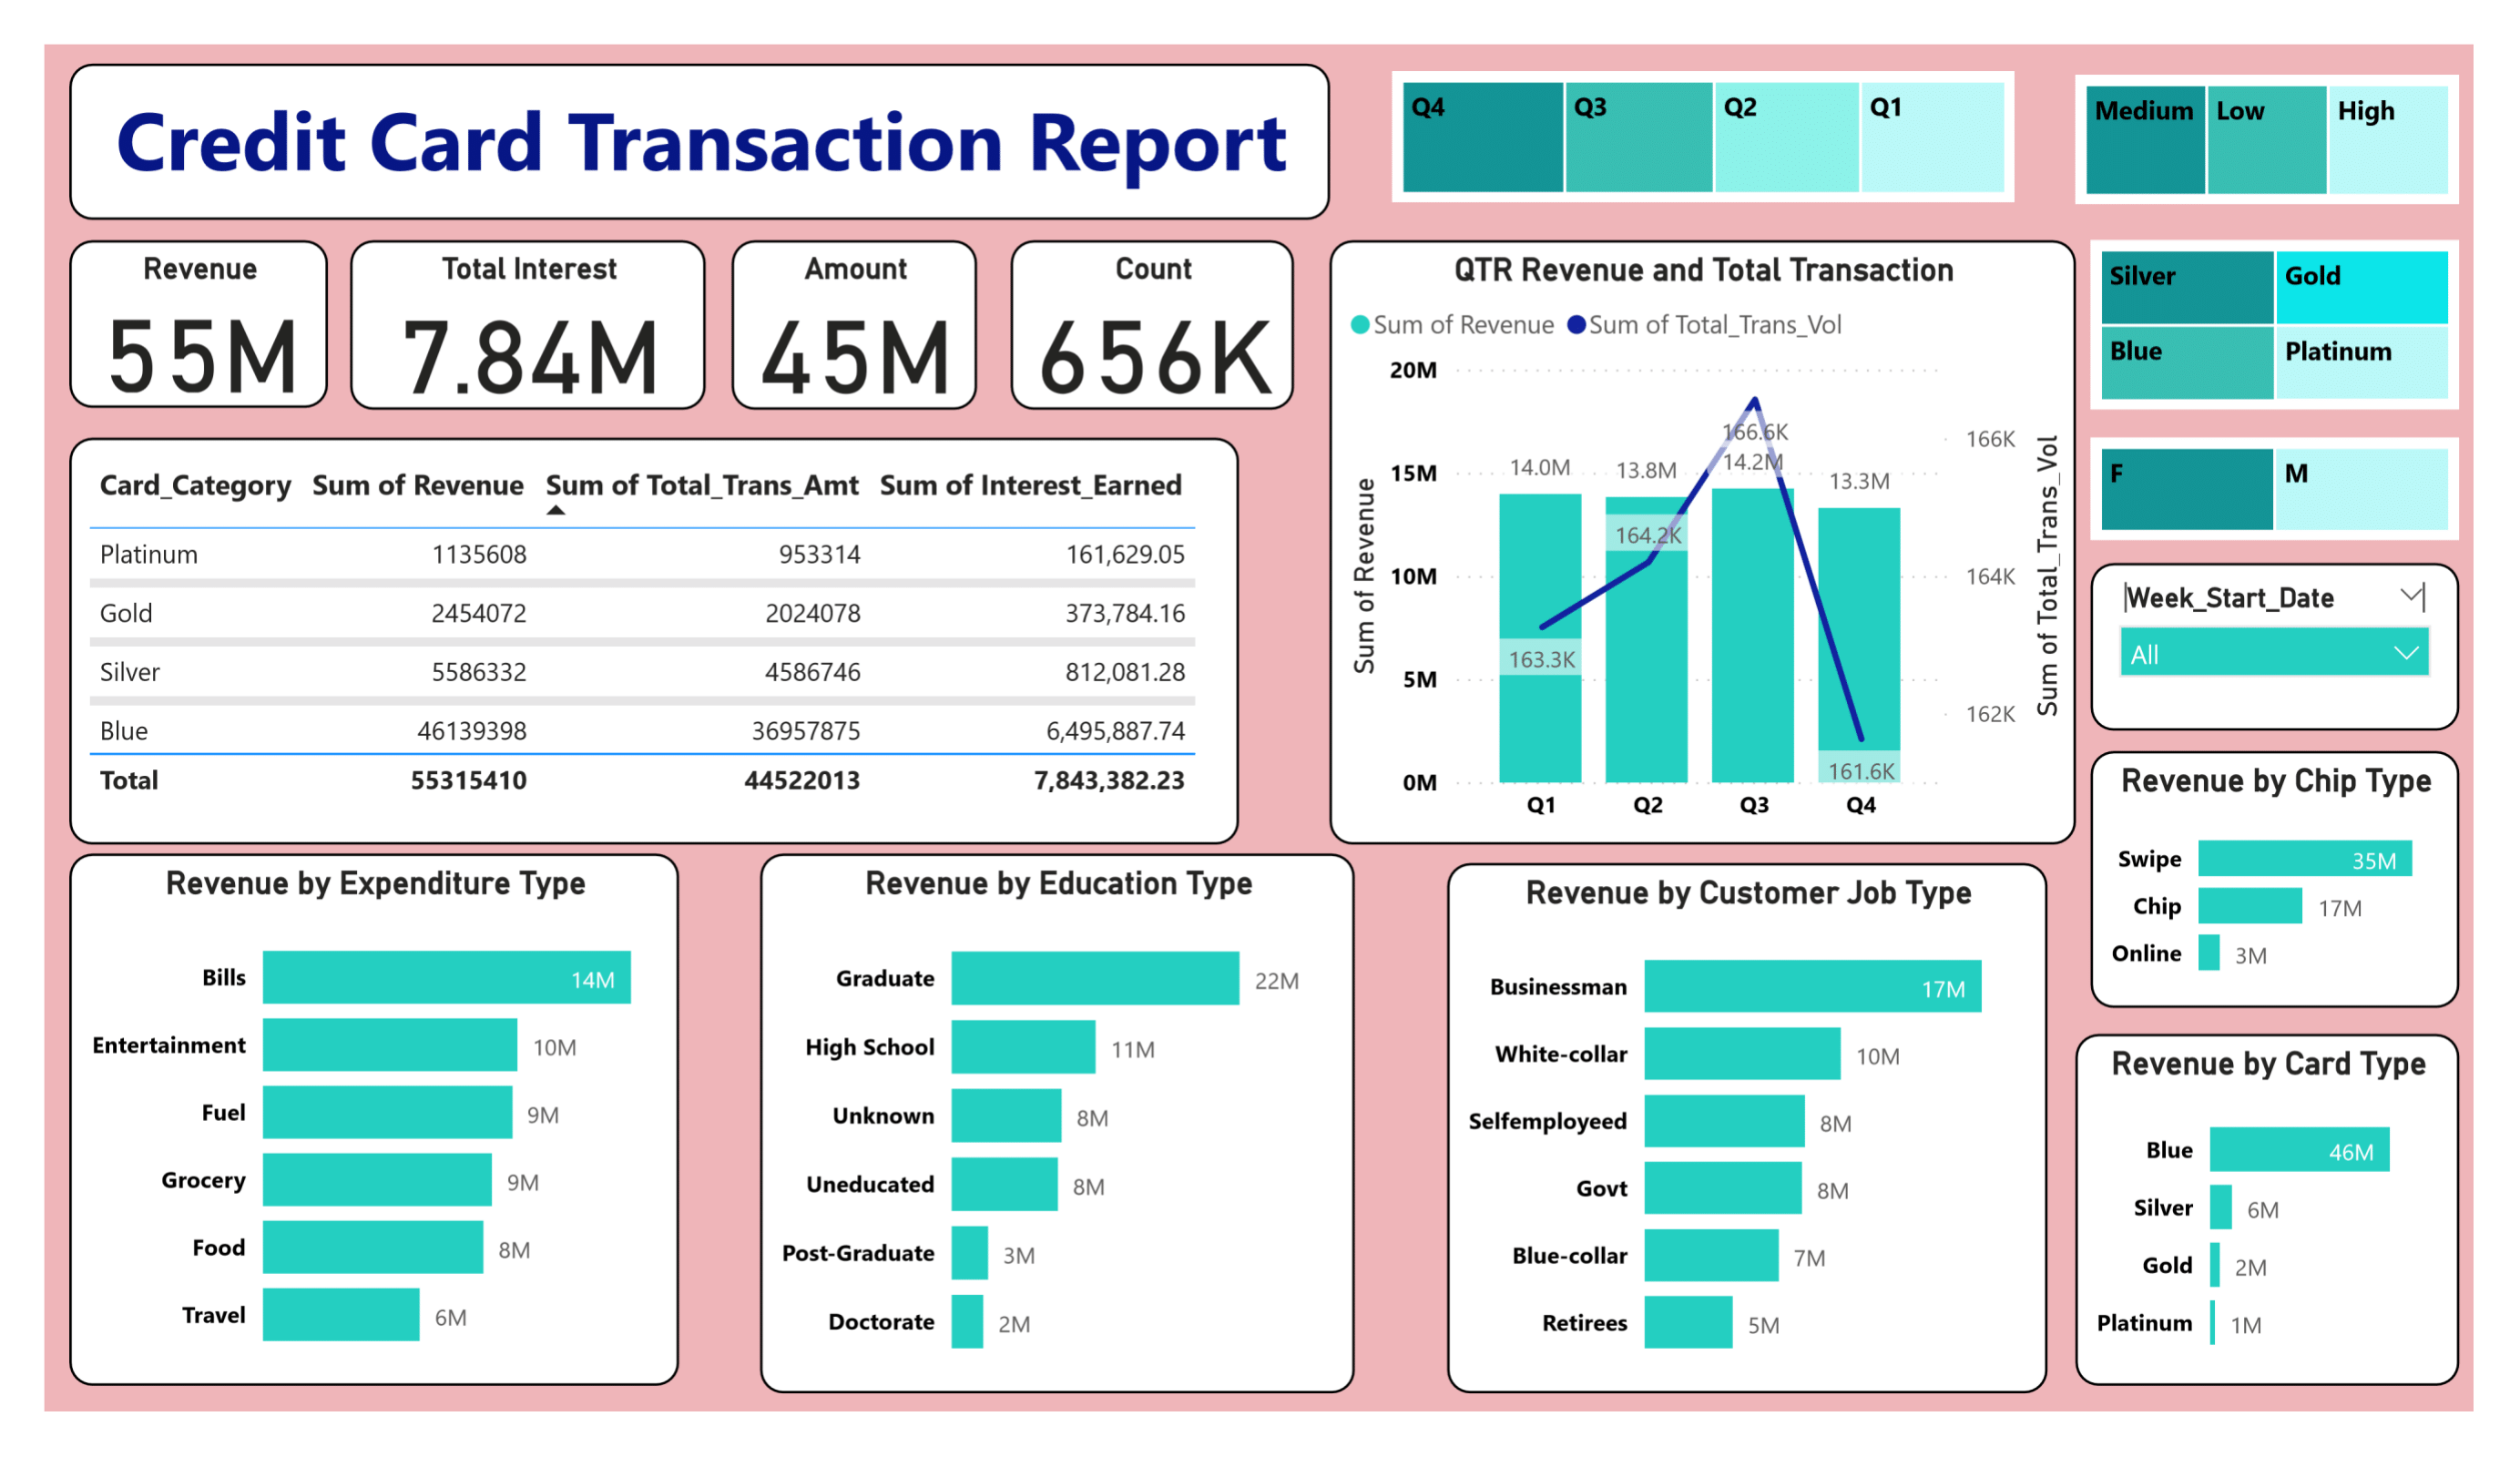

What the dashboard file says about the page in this screenshot:
{"tool":"powerbi","page":{"name":"Credit_Card_Transaction_Report","canvas":[1280,720],"ordinal":0},"visuals":[{"type":"textbox","box":[12.7,9.5,664.4,82.6],"z":0},{"type":"lineStackedColumnComboChart","title":"QTR Revenue and Total Transaction","fields":{"Category":["credit_card.Qtr"],"Y":["Sum(credit_card.Revenue)"],"Y2":["Sum(credit_card.Total_Trans_Vol)"]},"box":[677.1,103.3,392.6,317.9],"z":1000},{"type":"barChart","title":"Revenue by Expenditure Type","fields":{"Category":["credit_card.Exp Type"],"Y":["Sum(credit_card.Revenue)"]},"box":[12.7,426,321.1,279.7],"z":2000},{"type":"barChart","title":"Revenue by Education Type","fields":{"Y":["Sum(credit_card.Revenue)"],"Category":["customer.Education_Level"]},"box":[376.7,426,313.1,284.5],"z":3000},{"type":"barChart","title":"Revenue by Customer Job Type","fields":{"Y":["Sum(credit_card.Revenue)"],"Category":["customer.Customer_Job"]},"box":[739.1,430.7,316.3,279.7],"z":4000},{"type":"barChart","title":"Revenue by Card Type","fields":{"Y":["Sum(credit_card.Revenue)"],"Category":["credit_card.Card_Category"]},"box":[1069.7,521.3,201.9,184.4],"z":5000},{"type":"barChart","title":"Revenue by Chip Type","fields":{"Y":["Sum(credit_card.Revenue)"],"Category":["credit_card.Use Chip"]},"box":[1077.6,371.9,193.9,135.1],"z":6000},{"type":"tableEx","fields":{"Values":["credit_card.Card_Category","Sum(credit_card.Revenue)","Sum(credit_card.Total_Trans_Amt)","Sum(credit_card.Interest_Earned)"]},"box":[12.7,206.6,616.7,214.6],"z":7000},{"type":"card","title":"Revenue","fields":{"Values":["Sum(credit_card.Revenue)"]},"box":[12.7,103.3,136.7,87.4],"z":8000},{"type":"card","title":"Amount","fields":{"Values":["Sum(credit_card.Total_Trans_Amt)"]},"box":[362.4,103.3,128.7,89],"z":9000},{"type":"card","title":"Total Interest","fields":{"Values":["Sum(credit_card.Interest_Earned)"]},"box":[160.5,103.3,187.5,89],"z":10000},{"type":"card","title":"Count","fields":{"Values":["Sum(credit_card.Total_Trans_Vol)"]},"box":[508.6,103.3,149.4,89],"z":11000},{"type":"slicer","fields":{"Values":["credit_card.Week_Start_Date"]},"box":[1077.6,273.4,193.9,87.4],"z":12000},{"type":"treemap","fields":{"Group":["credit_card.Qtr"],"Values":["Avg(credit_card.Client_Num)"]},"box":[710.5,14.3,327.4,68.3],"z":13000},{"type":"treemap","fields":{"Group":["customer.IncomeGroup"],"Values":["Avg(credit_card.Client_Num)"]},"box":[1069.7,15.9,201.9,68.3],"z":14000},{"type":"treemap","fields":{"Values":["Avg(credit_card.Client_Num)"],"Group":["credit_card.Card_Category"]},"box":[1077.6,103.3,193.9,89],"z":15000},{"type":"treemap","fields":{"Values":["Avg(credit_card.Client_Num)"],"Group":["customer.Gender"]},"box":[1077.6,206.6,193.9,54],"z":16000}]}

Visuals, with their boxes in screenshot pixels (x1, y1, x2, y2):
textbox: Rect(69, 64, 1331, 220)
"QTR Revenue and Total Transaction" lineStackedColumnComboChart: Rect(1331, 241, 2076, 845)
"Revenue by Expenditure Type" barChart: Rect(69, 854, 679, 1384)
"Revenue by Education Type" barChart: Rect(760, 854, 1354, 1393)
"Revenue by Customer Job Type" barChart: Rect(1448, 862, 2048, 1393)
"Revenue by Card Type" barChart: Rect(2076, 1034, 2458, 1384)
"Revenue by Chip Type" barChart: Rect(2090, 751, 2458, 1007)
tableEx - credit_card.Card_Category x Sum(credit_card.Revenue): Rect(69, 437, 1240, 845)
"Revenue" card: Rect(69, 241, 329, 407)
"Amount" card: Rect(733, 241, 977, 411)
"Total Interest" card: Rect(350, 241, 706, 411)
"Count" card: Rect(1011, 241, 1294, 411)
slicer - credit_card.Week_Start_Date: Rect(2090, 565, 2458, 730)
treemap - credit_card.Qtr x Avg(credit_card.Client_Num): Rect(1393, 73, 2015, 202)
treemap - customer.IncomeGroup x Avg(credit_card.Client_Num): Rect(2076, 76, 2458, 205)
treemap - Avg(credit_card.Client_Num) x credit_card.Card_Category: Rect(2090, 241, 2458, 411)
treemap - Avg(credit_card.Client_Num) x customer.Gender: Rect(2090, 437, 2458, 540)
